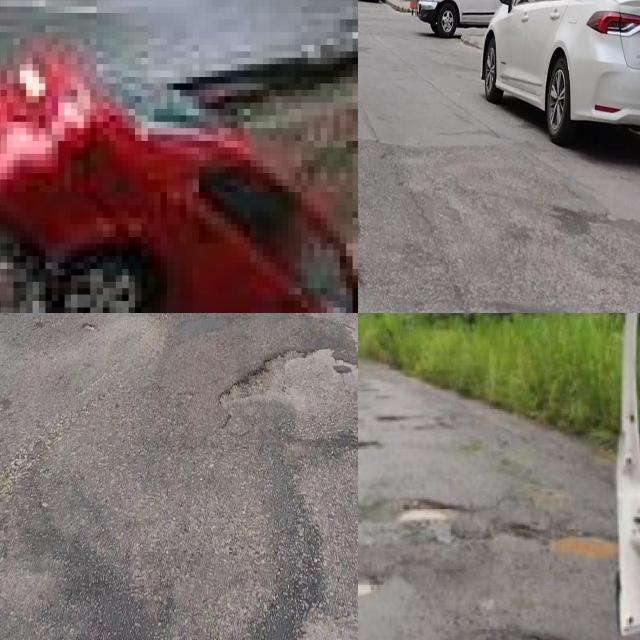Pothole: (220, 342, 358, 432), (546, 533, 619, 562), (400, 499, 466, 523), (358, 574, 385, 598)
